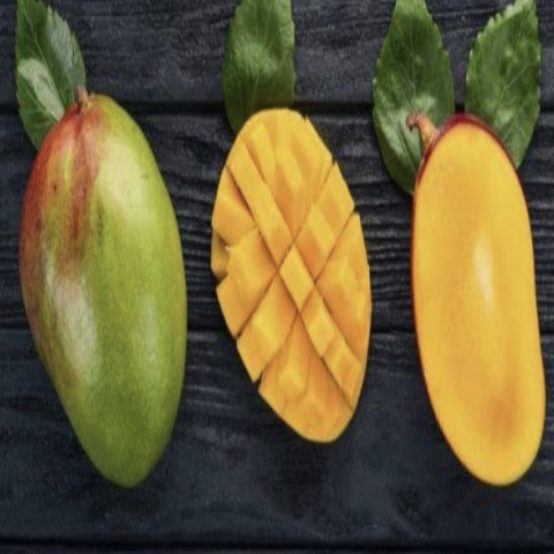mango: (13, 72, 196, 505), (202, 105, 375, 501), (394, 91, 553, 496)
